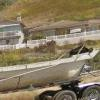Boat: (2, 50, 97, 100)
